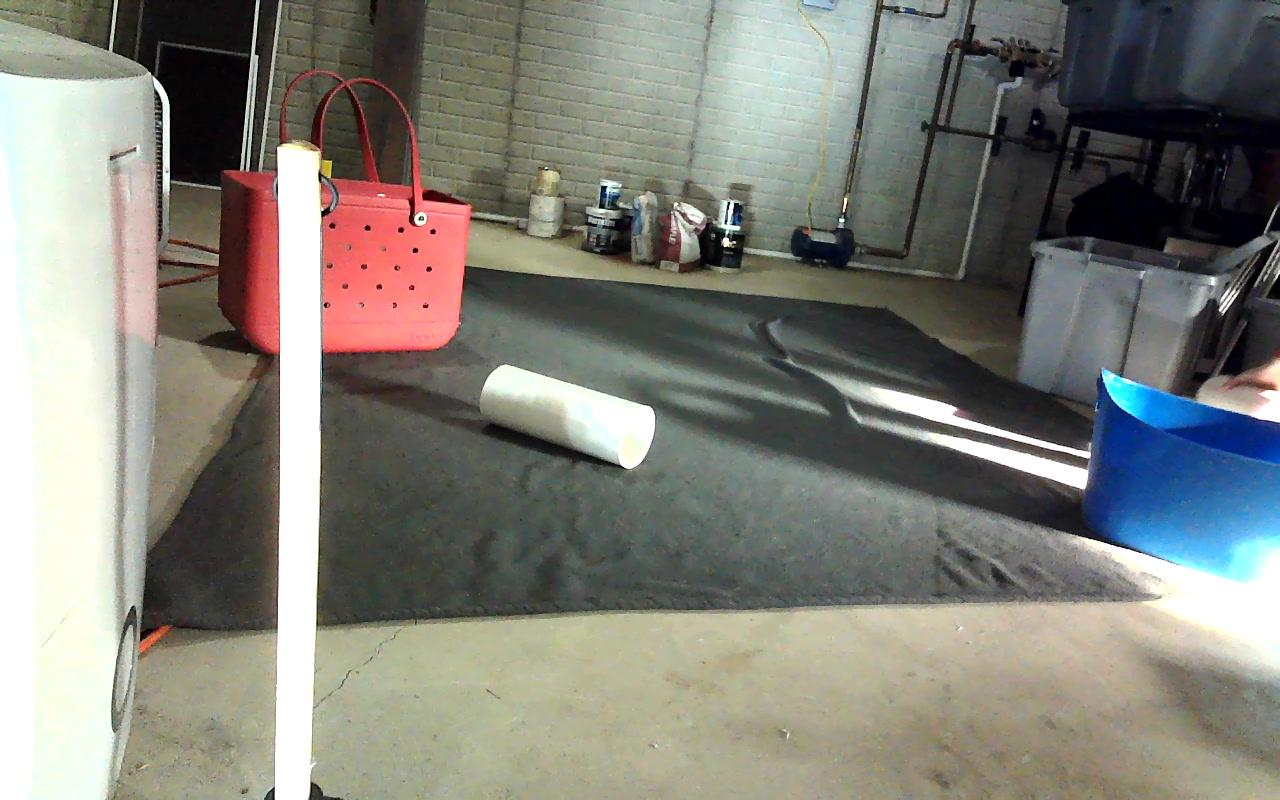coral: (480, 365, 654, 468)
